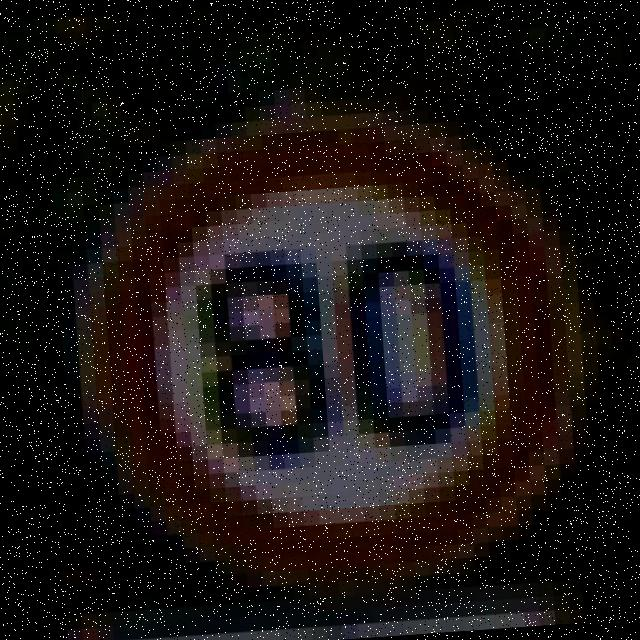Ograniczenie predkosci do 80: (74, 95, 588, 610)
